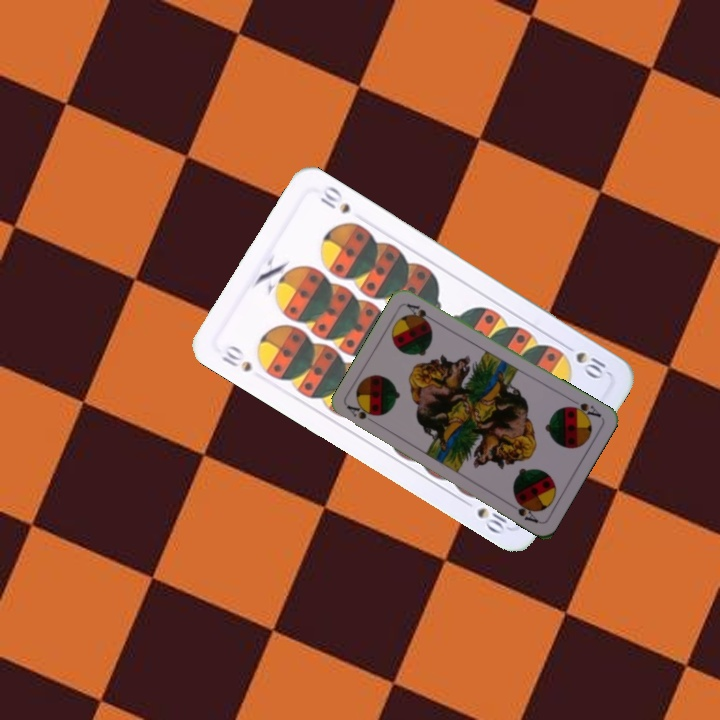S10: (558, 339, 609, 382), (217, 341, 255, 375)
SA: (564, 395, 604, 421), (343, 401, 376, 422)
